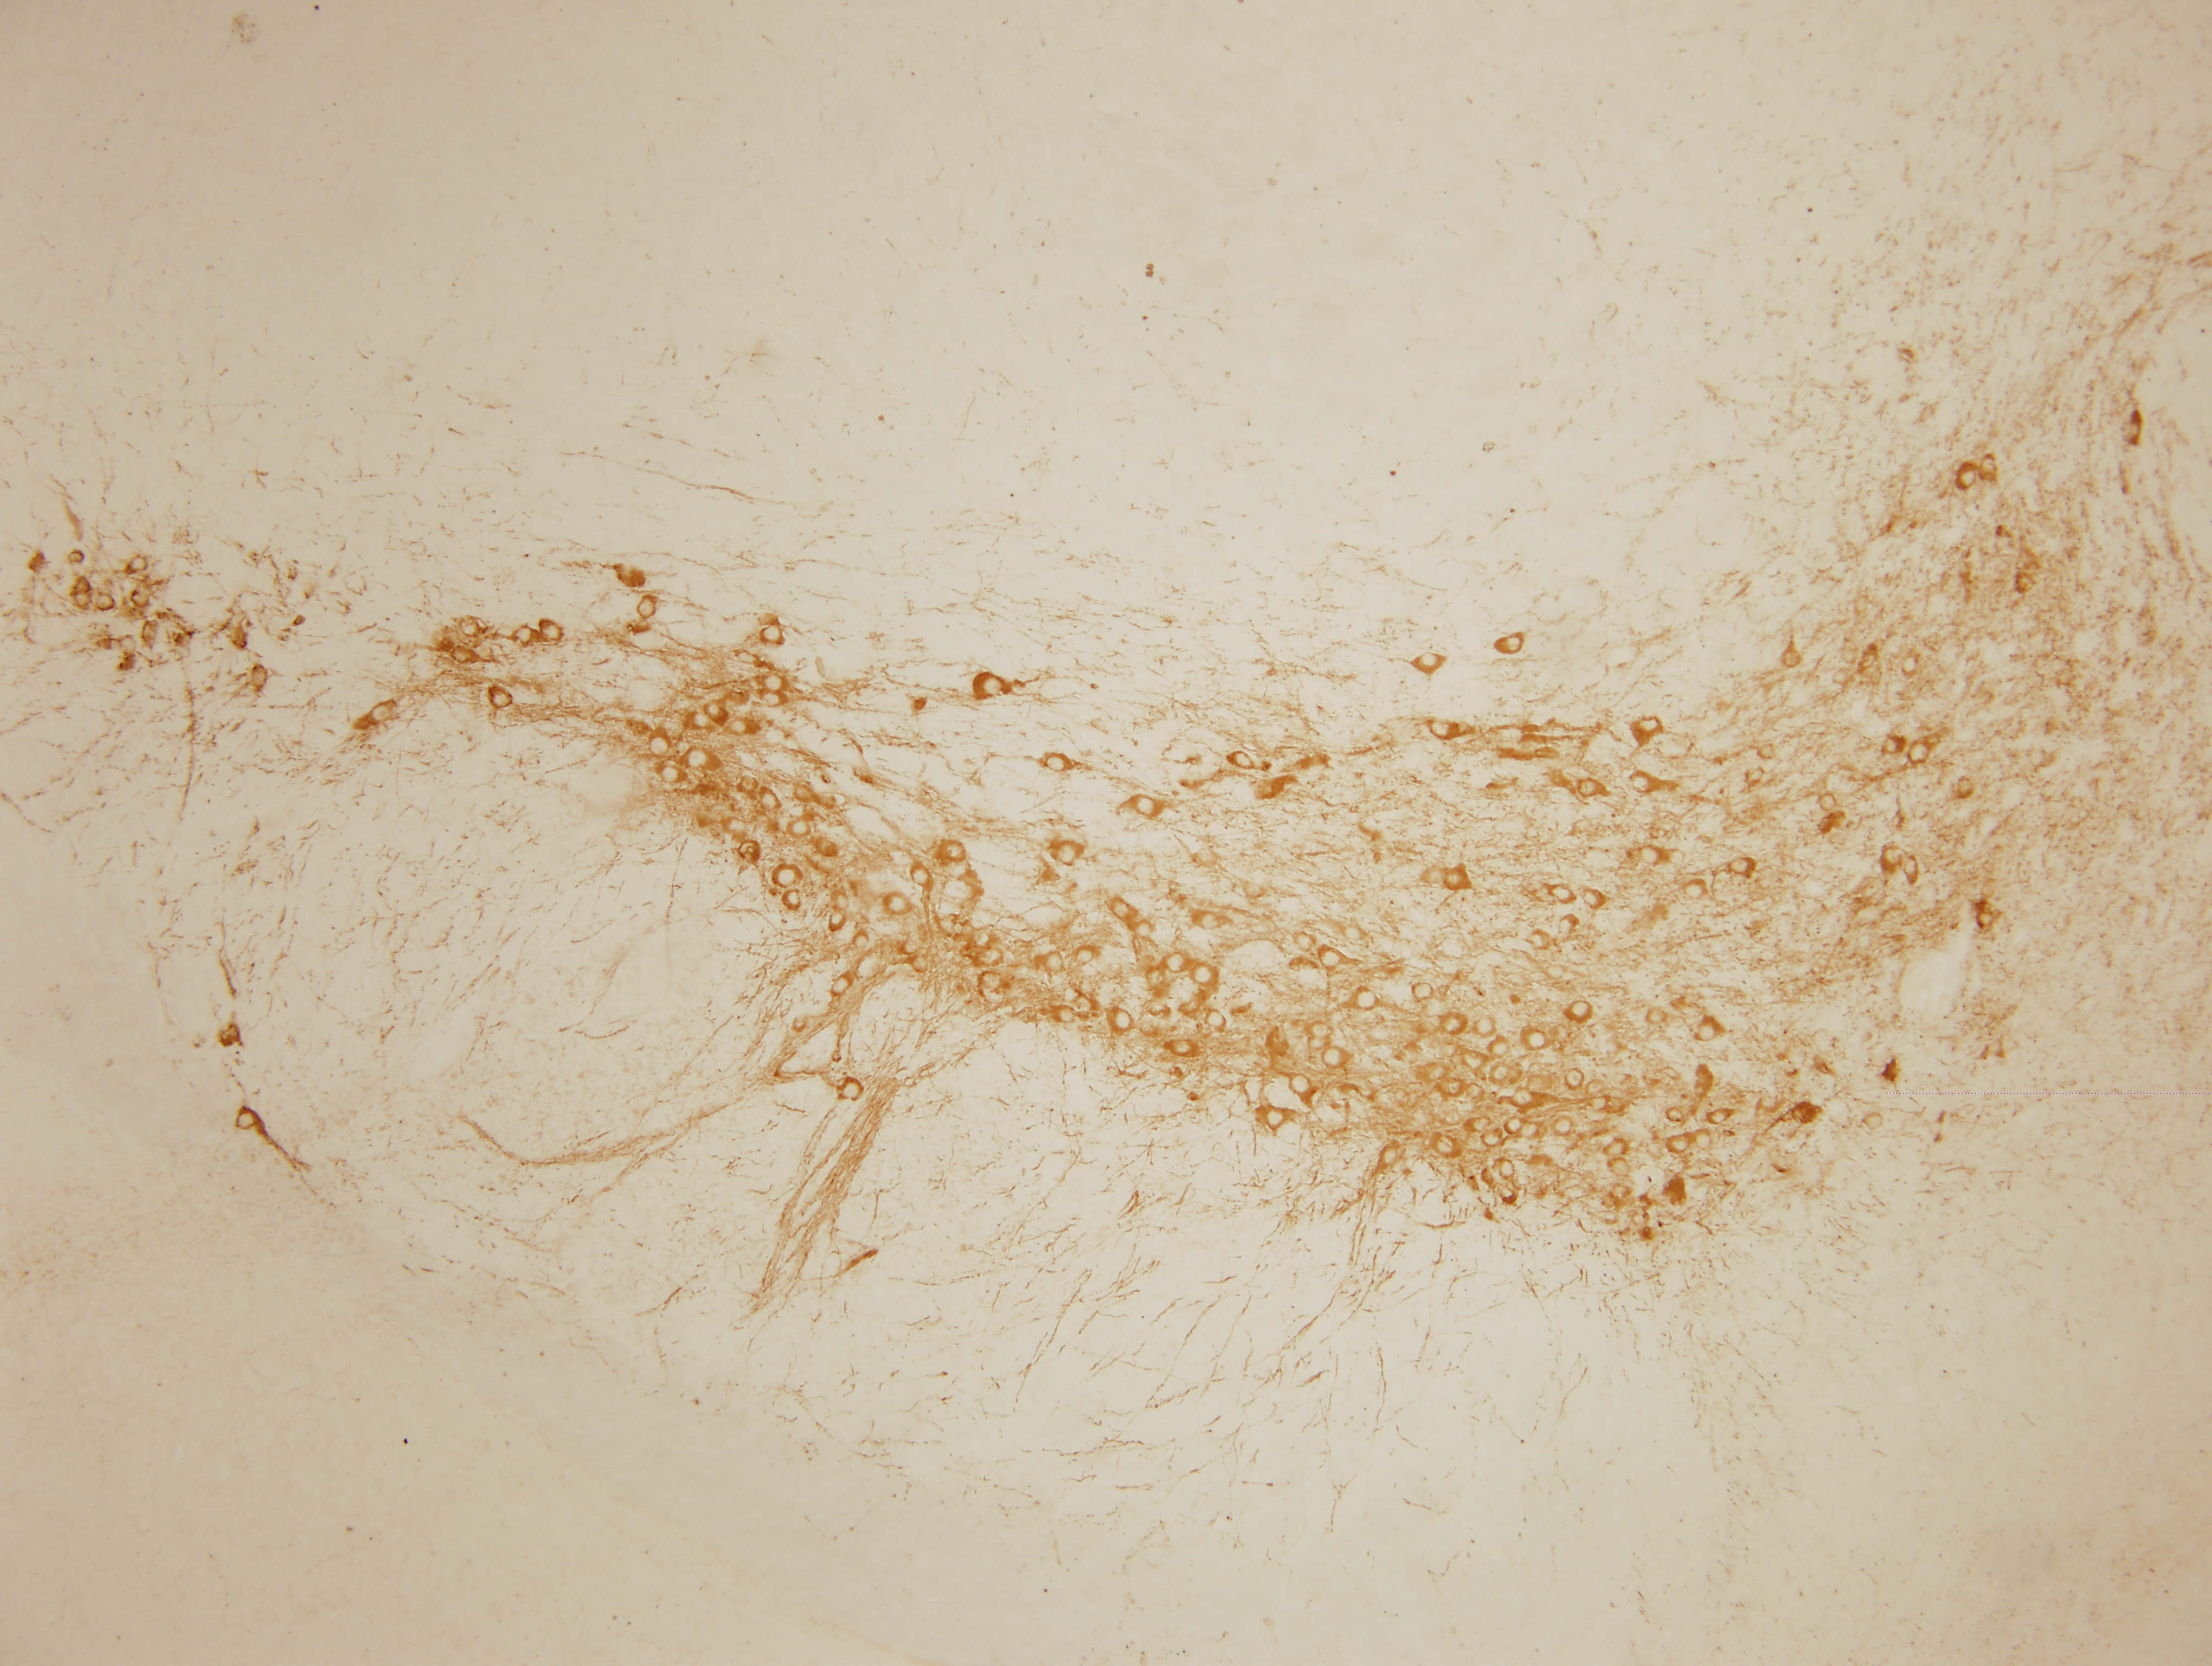neuron: (1436, 1006, 1469, 1039), (231, 1104, 264, 1138), (1439, 863, 1472, 894), (1457, 1045, 1490, 1076), (1469, 1010, 1500, 1043), (1951, 460, 1983, 494), (635, 595, 661, 621), (647, 733, 673, 760), (657, 763, 684, 789), (685, 747, 712, 773), (736, 772, 762, 798), (761, 623, 787, 649), (762, 668, 789, 695), (827, 973, 853, 999), (838, 1078, 864, 1104), (885, 891, 911, 917), (909, 865, 936, 891), (943, 840, 969, 866), (94, 588, 121, 614), (979, 672, 1005, 698), (1042, 950, 1068, 976), (1044, 751, 1070, 777), (1053, 842, 1079, 868), (1110, 1008, 1137, 1034), (1133, 793, 1159, 819), (1163, 950, 1189, 976), (1189, 963, 1215, 989), (1203, 1006, 1229, 1032), (126, 551, 152, 578), (1261, 1106, 1287, 1132), (1289, 1073, 1315, 1099), (1318, 947, 1345, 973), (1353, 987, 1380, 1013), (1409, 978, 1436, 1005), (1427, 718, 1453, 744), (1430, 1132, 1457, 1159), (1439, 1074, 1465, 1101), (1493, 1157, 1520, 1183), (1525, 1027, 1551, 1054), (1549, 882, 1576, 908), (1549, 1113, 1576, 1139), (1556, 914, 1582, 940), (1562, 1067, 1588, 1094), (1567, 998, 1593, 1024), (1577, 775, 1603, 801), (1579, 886, 1605, 912), (1607, 1155, 1633, 1181), (1630, 772, 1656, 798), (1637, 843, 1663, 870), (1642, 1003, 1668, 1029), (1666, 1130, 1693, 1157), (1680, 877, 1707, 903), (1691, 1129, 1717, 1155), (1743, 765, 1770, 791), (1756, 738, 1782, 765), (1815, 791, 1841, 817), (1861, 1109, 1887, 1136), (1897, 653, 1923, 679), (1901, 858, 1927, 884), (1906, 740, 1932, 766), (1953, 775, 1979, 801), (1974, 908, 2000, 935), (1976, 453, 2002, 480), (367, 700, 393, 726), (449, 644, 476, 670), (458, 616, 484, 642), (488, 686, 514, 712), (511, 621, 537, 648), (539, 618, 565, 644), (775, 866, 801, 891), (1231, 747, 1256, 773), (1292, 928, 1317, 954), (1320, 1045, 1346, 1069), (1378, 1145, 1404, 1169), (1423, 1061, 1448, 1087), (1603, 1138, 1630, 1162), (1610, 1179, 1635, 1206), (1637, 714, 1663, 738), (1694, 1017, 1719, 1043), (1728, 852, 1752, 878), (1780, 648, 1805, 674), (1880, 845, 1906, 870), (1471, 1115, 1492, 1136), (761, 791, 780, 812), (1075, 947, 1095, 968), (1110, 900, 1130, 921), (1173, 1038, 1193, 1059), (1418, 651, 1439, 670), (1504, 635, 1525, 655), (691, 712, 710, 731), (705, 700, 724, 719), (729, 718, 748, 737), (740, 840, 759, 859), (783, 891, 803, 910), (790, 819, 810, 838), (827, 910, 846, 929), (832, 893, 852, 912), (852, 933, 871, 952), (1058, 1006, 1077, 1026), (1201, 912, 1221, 931), (1308, 1036, 1327, 1055), (1311, 1020, 1331, 1039), (1343, 924, 1362, 943), (1465, 1081, 1485, 1101), (1481, 1129, 1500, 1148), (1490, 1039, 1509, 1059), (1492, 1064, 1511, 1083), (1504, 1116, 1523, 1136), (1513, 1089, 1532, 1108), (1665, 1106, 1684, 1125), (1708, 1108, 1728, 1127), (1880, 737, 1899, 756), (831, 1052, 843, 1064)
